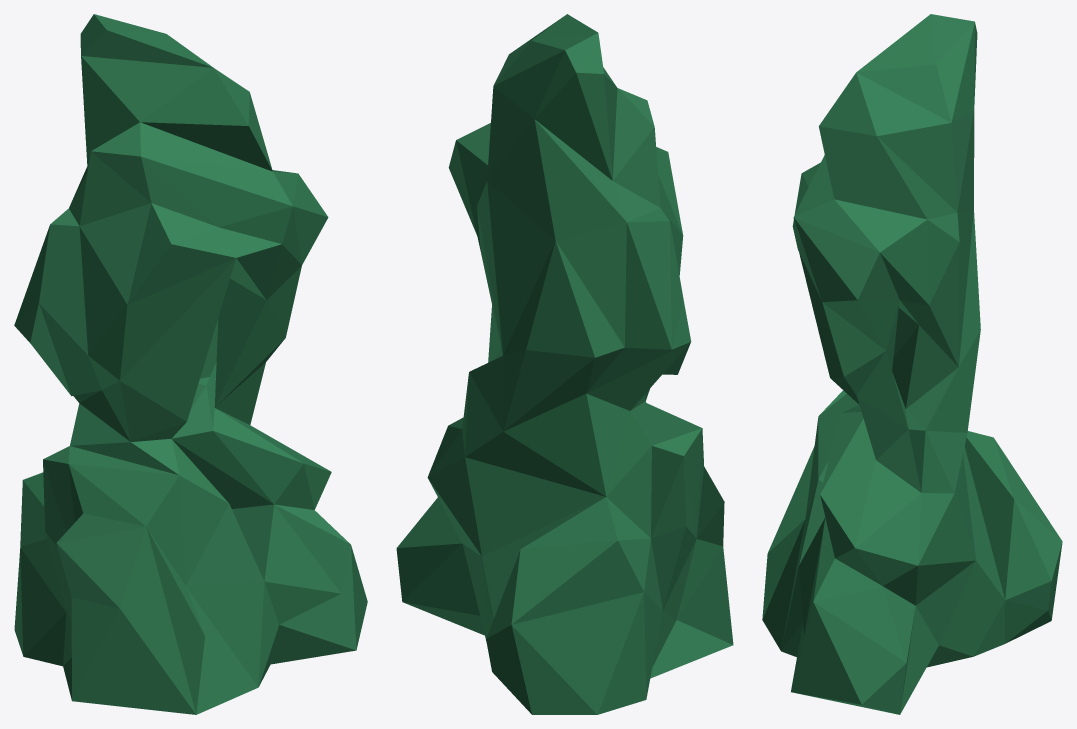
File: SM_0013_COL.fbx
The picture shows the model from 3 angles, left to right: view 1: azimuth 30°, elevation 25°; view 2: azimuth 150°, elevation 25°; view 3: azimuth 270°, elevation 25°; orthographic projection. The views are drawn at different scales.
Parts seen in each view (by area): view 1: SM_0013_COL; view 2: SM_0013_COL; view 3: SM_0013_COL.
Boxes of the visible parts, x1,y1,x2,y2 form: SM_0013_COL: (14, 14, 367, 714); SM_0013_COL: (396, 14, 733, 714); SM_0013_COL: (762, 14, 1062, 714).
Bounding box in the file's own units: 1.84 × 3.52 × 1.58.
